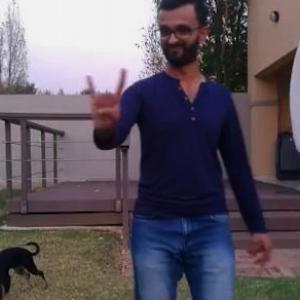takeoff-hand: (82, 63, 128, 133)
